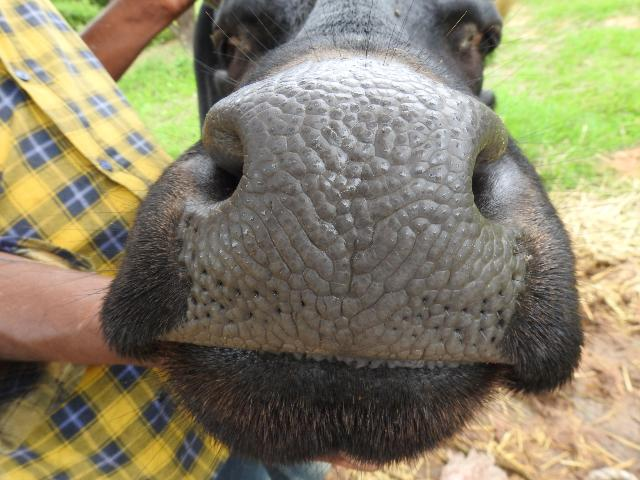Muzzle: (202, 87, 516, 362)
